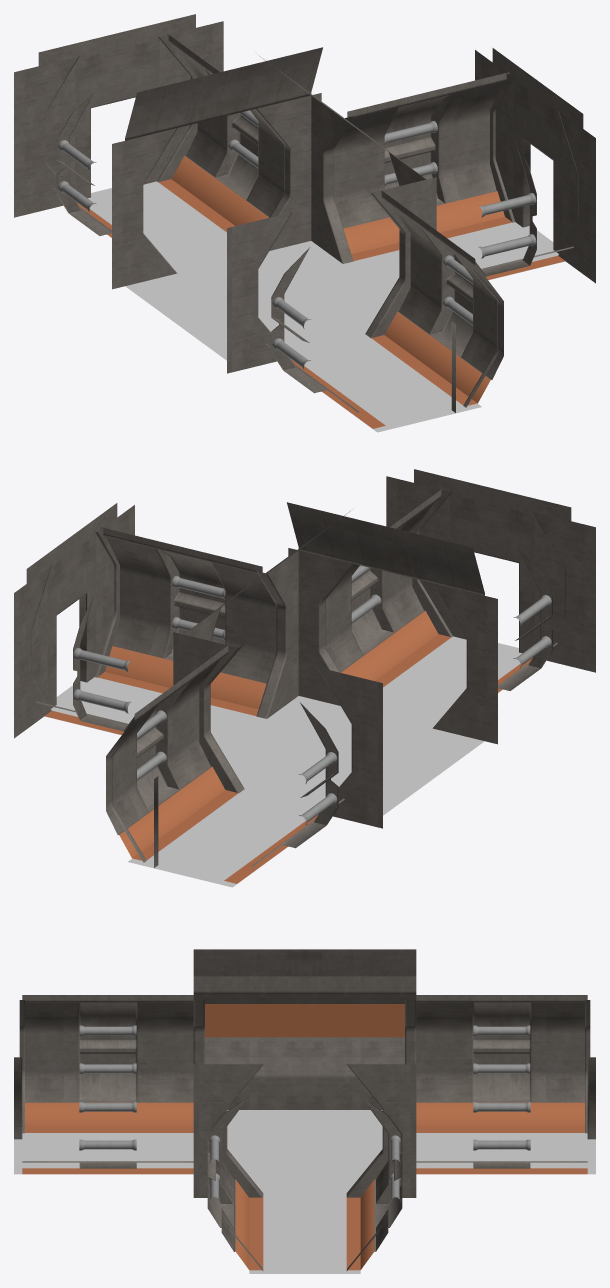
Rendered from HC_room3.gltf.
3 views of the same model, one above another, from view 1: azimuth 30°, elevation 25°; view 2: azimuth 150°, elevation 25°; view 3: azimuth 270°, elevation 25° (orthographic). The views are drawn at different scales.
Visible parts, largest first — view 1: Nuke; view 2: Nuke; view 3: Nuke.
Part boxes in pixels (x1,y1,x2,y2): Nuke: (14, 14, 595, 432); Nuke: (14, 469, 595, 887); Nuke: (14, 949, 595, 1273).
Bounding box in the file's own units: 14.47 × 7.38 × 20.94.
